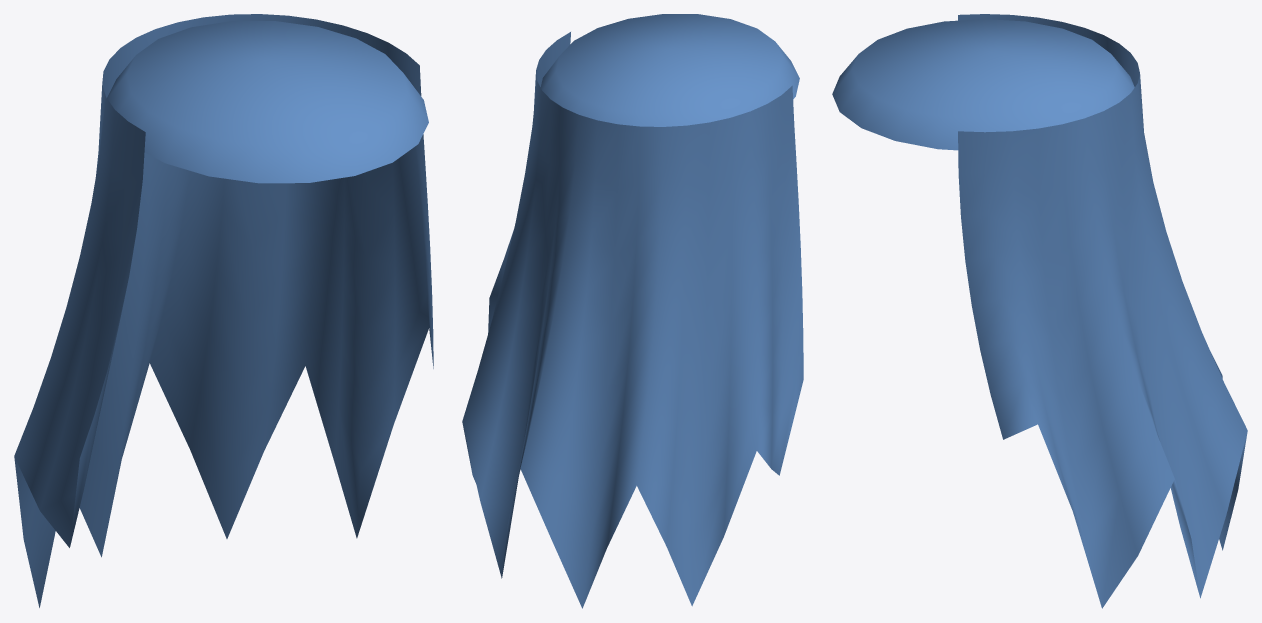
File: mantling.glb
The picture shows the model from 3 angles, left to right: view 1: azimuth 30°, elevation 25°; view 2: azimuth 150°, elevation 25°; view 3: azimuth 270°, elevation 25°; orthographic projection. The views are drawn at different scales.
Parts seen in each view (by area): view 1: Mantling; view 2: Mantling; view 3: Mantling.
Part boxes in pixels (<box>): Mantling: <box>14,14,433,607</box>; Mantling: <box>462,14,803,608</box>; Mantling: <box>832,14,1247,608</box>.
Bounding box in the file's own units: 0.3535 × 0.532 × 0.3918.
